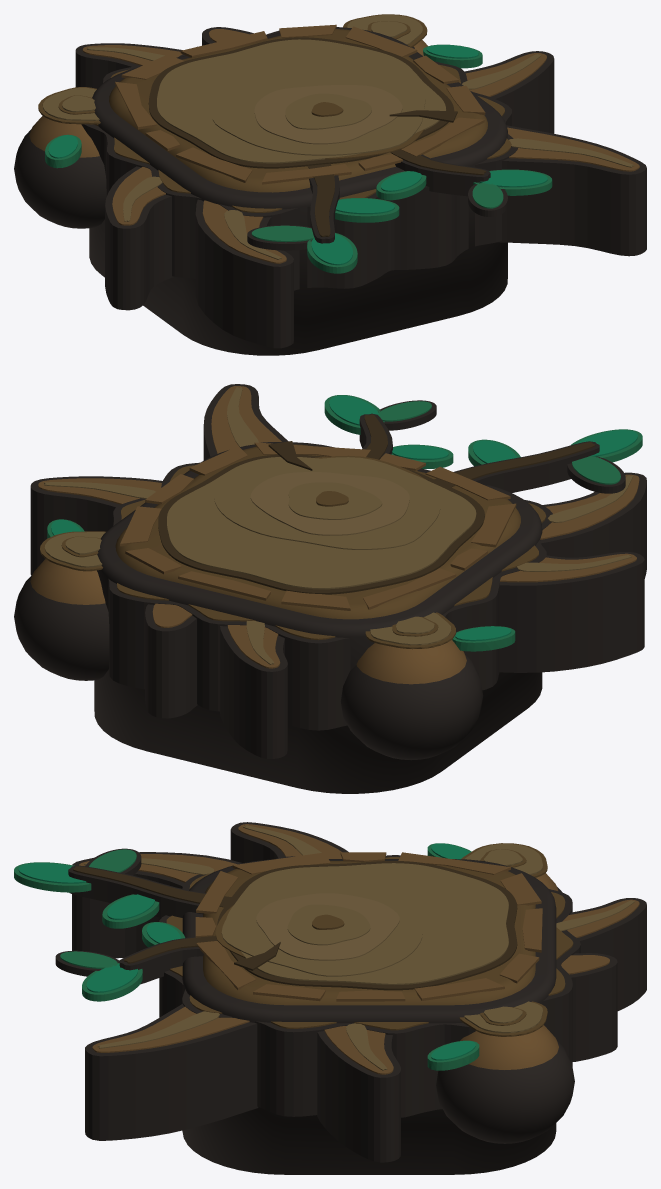
The model's file is body_toco.fbx.
3 views of the same model, one above another, from view 1: azimuth 30°, elevation 25°; view 2: azimuth 150°, elevation 25°; view 3: azimuth 270°, elevation 25° (orthographic). The views are drawn at different scales.
Visible parts, largest first — view 1: body_toco_corpo, body_toco, body_toco_mao_esq, body_toco_anim_broto_esq, body_toco_anim_broto_dir, body_toco_mao; view 2: body_toco_corpo, body_toco, body_toco_mao_esq, body_toco_mao, body_toco_anim_broto_esq, body_toco_anim_broto_dir; view 3: body_toco_corpo, body_toco, body_toco_mao, body_toco_anim_broto_esq, body_toco_anim_broto_dir, body_toco_mao_esq.
Boxes of the visible parts, left/top/right/bottom form: body_toco_corpo: left=81, top=24, right=517, bottom=355; body_toco: left=75, top=27, right=646, bottom=348; body_toco_mao_esq: left=14, top=87, right=106, bottom=228; body_toco_anim_broto_esq: left=247, top=163, right=399, bottom=273; body_toco_anim_broto_dir: left=376, top=149, right=552, bottom=216; body_toco_mao: left=343, top=14, right=482, bottom=68; body_toco_corpo: left=94, top=441, right=552, bottom=793; body_toco: left=30, top=384, right=646, bottom=758; body_toco_mao_esq: left=340, top=612, right=515, bottom=760; body_toco_mao: left=14, top=519, right=109, bottom=680; body_toco_anim_broto_esq: left=434, top=429, right=642, bottom=493; body_toco_anim_broto_dir: left=324, top=395, right=453, bottom=468; body_toco_corpo: left=159, top=852, right=580, bottom=1174; body_toco: left=72, top=822, right=646, bottom=1162; body_toco_mao: left=427, top=1001, right=574, bottom=1143; body_toco_anim_broto_esq: left=14, top=848, right=231, bottom=928; body_toco_anim_broto_dir: left=55, top=922, right=217, bottom=1001; body_toco_mao_esq: left=427, top=843, right=562, bottom=892.
Size of the model in its own units: 6.47 by 2.11 by 6.77.
Materials: 1 (1 with a texture image).
